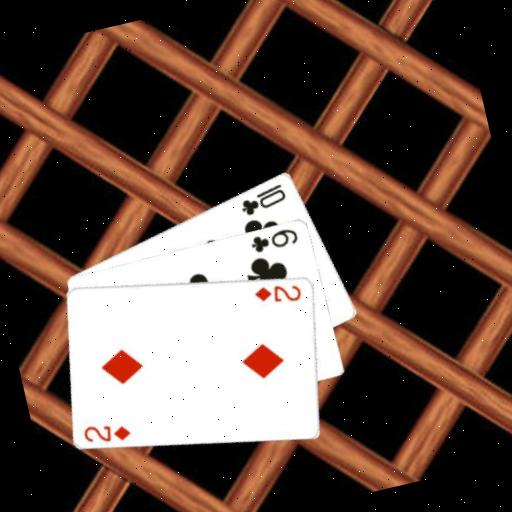10C: (235, 179, 291, 219)
2D: (250, 275, 305, 311), (80, 414, 134, 450)
6C: (247, 223, 302, 256)
